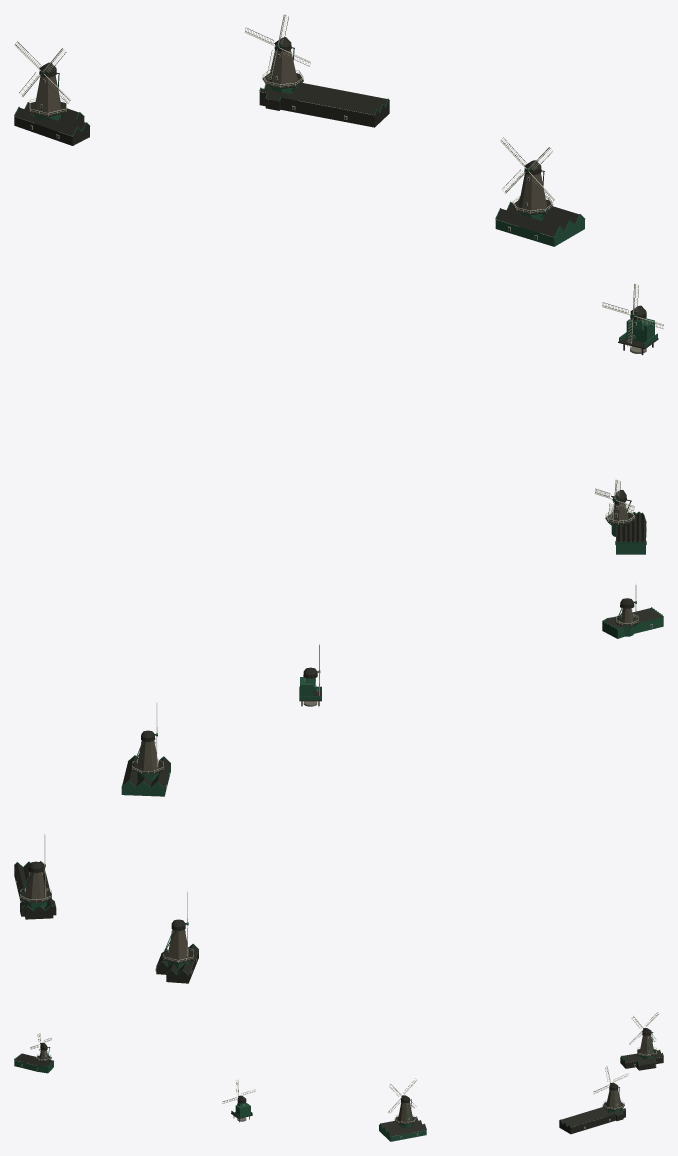
The model's file is zaanse-schans-windmills-near.glb.
3 renders of one model, top to bottom at view 1: azimuth 30°, elevation 25°; view 2: azimuth 150°, elevation 25°; view 3: azimuth 270°, elevation 25°, orthographic. The views are drawn at different scales.
Visible parts, largest first — view 1: zaanse-schans-windmills-0-wood, zaanse-schans-windmills-0-green, zaanse-schans-windmills-0-trim, zaanse-schans-windmills-0-thatch; view 2: zaanse-schans-windmills-0-wood, zaanse-schans-windmills-0-green, zaanse-schans-windmills-0-thatch, zaanse-schans-windmills-0-trim; view 3: zaanse-schans-windmills-0-wood, zaanse-schans-windmills-0-green, zaanse-schans-windmills-0-thatch, zaanse-schans-windmills-0-trim.
Boxes of the visible parts, x1=… form: zaanse-schans-windmills-0-wood: x1=14, y1=15, x2=663, y2=542; zaanse-schans-windmills-0-green: x1=14, y1=45, x2=657, y2=554; zaanse-schans-windmills-0-trim: x1=14, y1=14, x2=663, y2=545; zaanse-schans-windmills-0-thatch: x1=35, y1=50, x2=628, y2=521; zaanse-schans-windmills-0-wood: x1=14, y1=598, x2=662, y2=983; zaanse-schans-windmills-0-green: x1=14, y1=601, x2=663, y2=975; zaanse-schans-windmills-0-thatch: x1=25, y1=608, x2=633, y2=960; zaanse-schans-windmills-0-trim: x1=16, y1=583, x2=652, y2=973; zaanse-schans-windmills-0-wood: x1=14, y1=1012, x2=663, y2=1136; zaanse-schans-windmills-0-green: x1=14, y1=1028, x2=663, y2=1141; zaanse-schans-windmills-0-thatch: x1=39, y1=1035, x2=653, y2=1122; zaanse-schans-windmills-0-trim: x1=21, y1=1013, x2=658, y2=1138.
Size of the model in its own units: 108 by 29.4 by 349.
